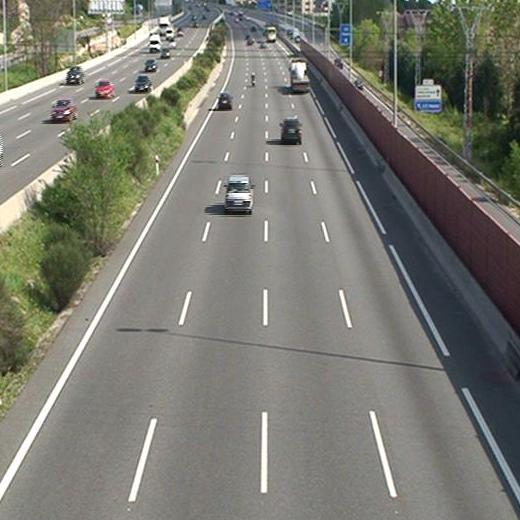car: (223, 175, 253, 213), (279, 117, 302, 142), (217, 92, 233, 111)
motorcycle: (250, 74, 257, 88)
truck: (289, 58, 310, 93)
